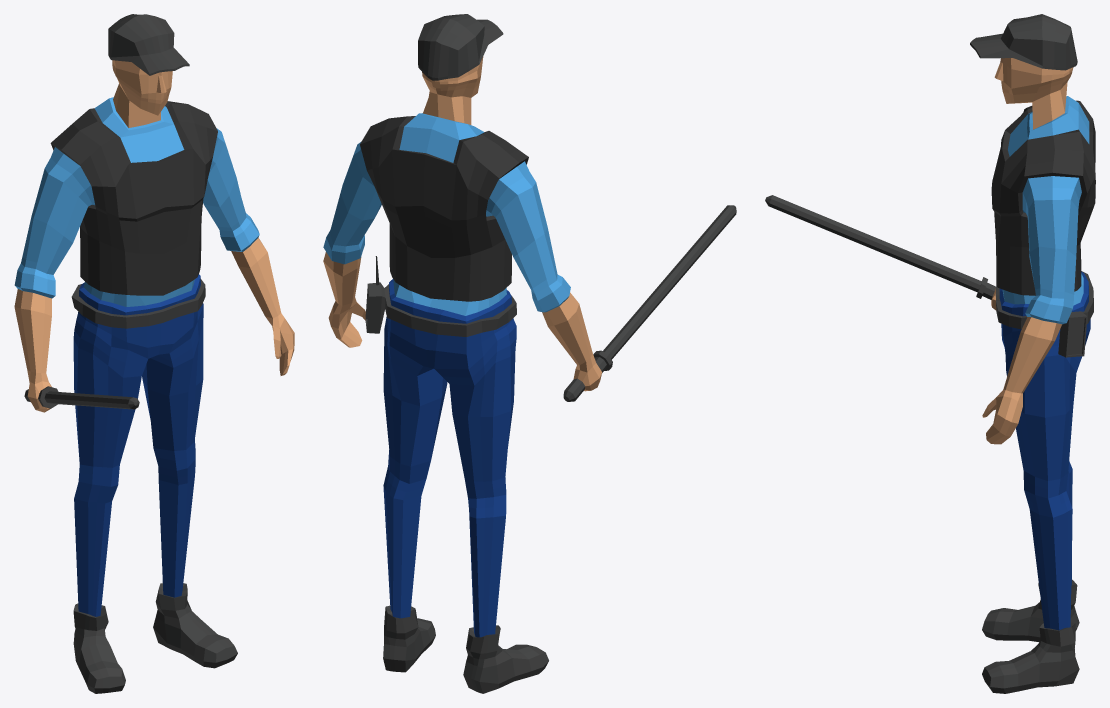
File: Guard.fbx
The picture shows the model from 3 angles, left to right: view 1: azimuth 30°, elevation 25°; view 2: azimuth 150°, elevation 25°; view 3: azimuth 270°, elevation 25°; orthographic projection.
Parts seen in each view (by area): view 1: Guard; view 2: Guard; view 3: Guard.
Part boxes in pixels (left/top/right/bottom): Guard: left=14, top=14, right=294, bottom=693; Guard: left=323, top=14, right=736, bottom=693; Guard: left=765, top=14, right=1095, bottom=693.
Size of the model in its own units: 83.14 by 181 by 84.16.
